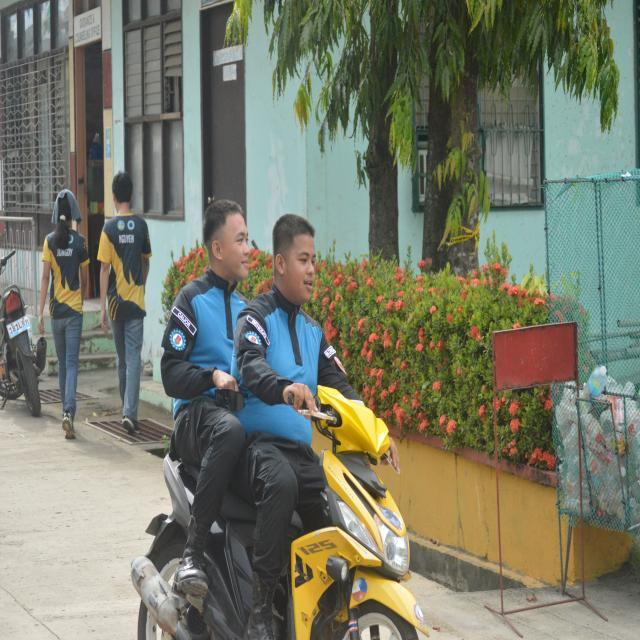person: (232, 215, 359, 639), (161, 200, 249, 596), (98, 173, 151, 433), (38, 190, 89, 439)
